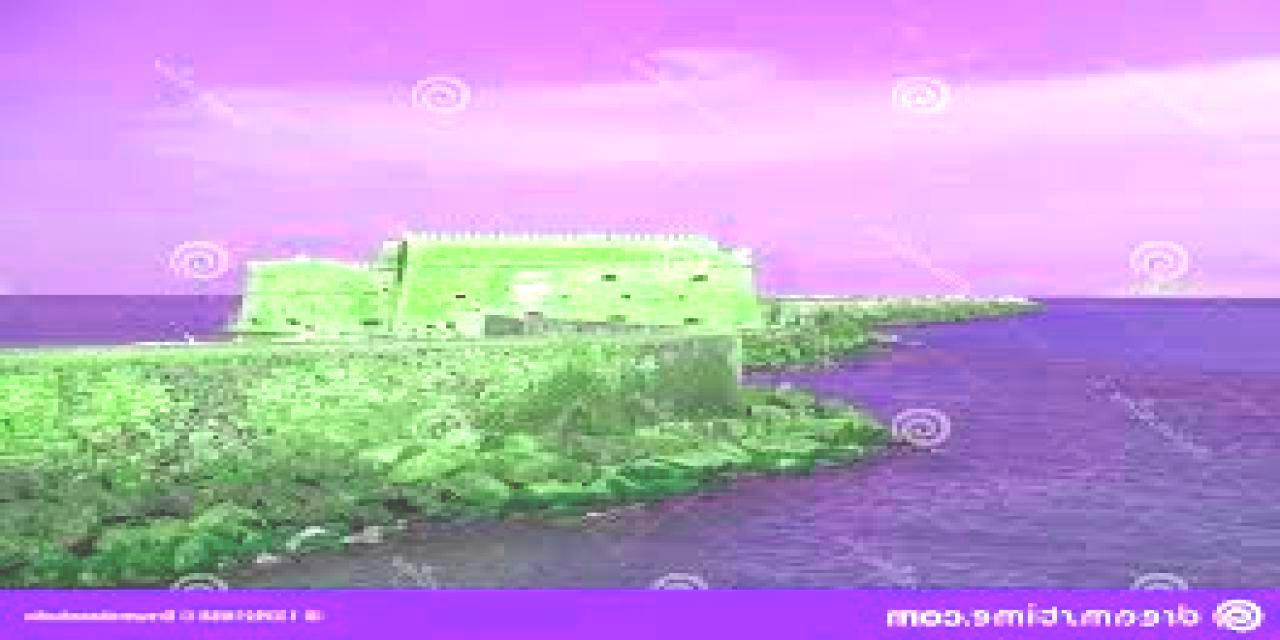Kules: (214, 234, 763, 344)
